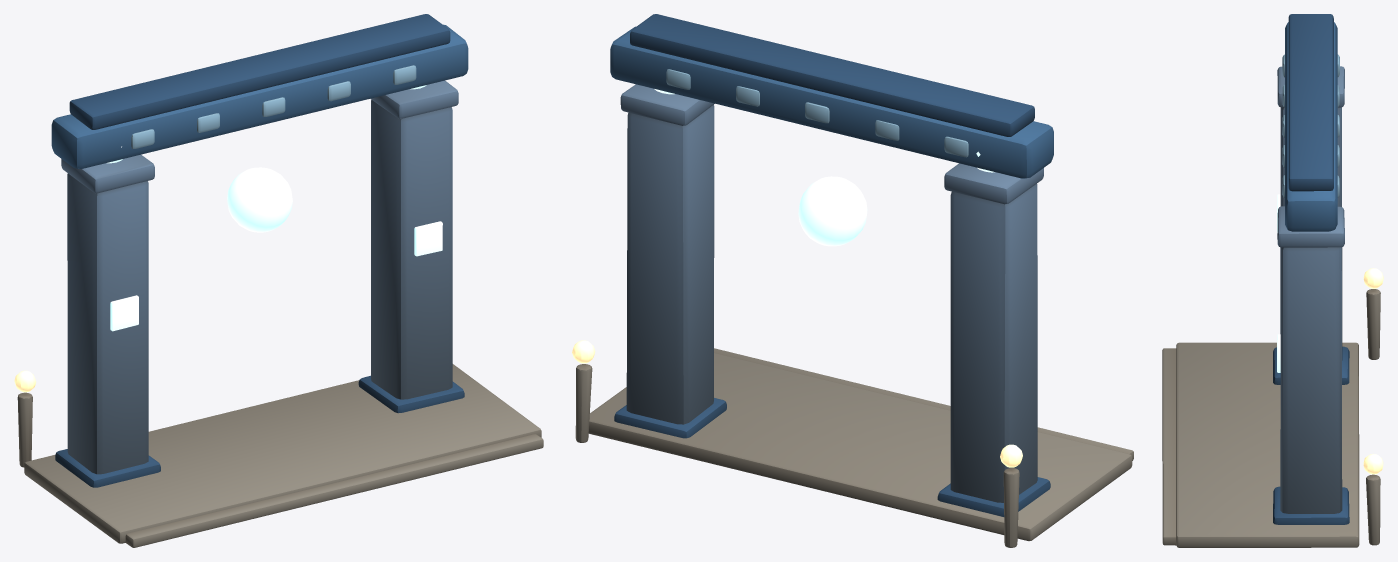
The picture shows the model from 3 angles, left to right: view 1: azimuth 30°, elevation 25°; view 2: azimuth 150°, elevation 25°; view 3: azimuth 270°, elevation 25°; orthographic projection. The views are drawn at different scales.
Parts seen in each view (by area): view 1: gate_c49815df; view 2: gate_c49815df; view 3: gate_c49815df.
Boxes of the visible parts, left/top/right/bottom form: gate_c49815df: left=14, top=14, right=543, bottom=547; gate_c49815df: left=572, top=14, right=1133, bottom=547; gate_c49815df: left=1162, top=14, right=1383, bottom=547.
Size of the model in its own units: 5.31 by 4.52 by 2.54.
